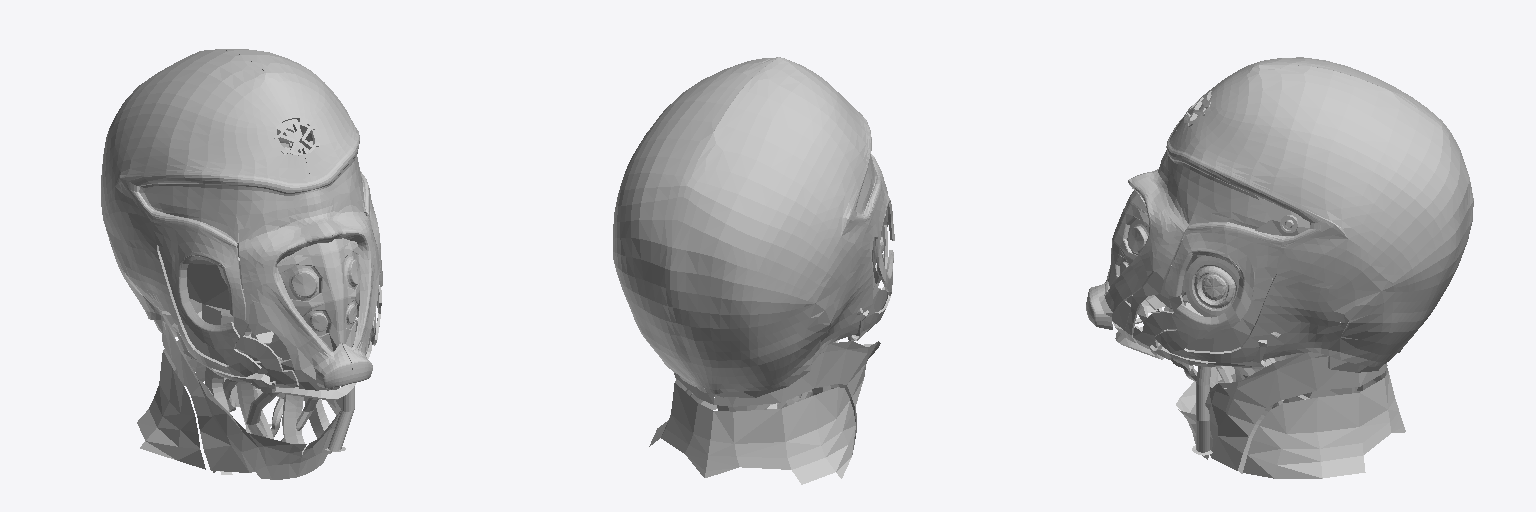
Rendered from Head.obj.
3 renders of one model, left to right at view 1: azimuth 30°, elevation 25°; view 2: azimuth 150°, elevation 25°; view 3: azimuth 270°, elevation 25°, orthographic.
Visible parts, largest first — view 1: androide_pra_vender:Object024; view 2: androide_pra_vender:Object024; view 3: androide_pra_vender:Object024.
Part boxes in pixels (left/top/right/bottom): androide_pra_vender:Object024: left=101, top=49, right=382, bottom=479; androide_pra_vender:Object024: left=613, top=57, right=894, bottom=484; androide_pra_vender:Object024: left=1086, top=57, right=1473, bottom=478.
Size of the model in its own units: 0.2178 by 0.3665 by 0.3367.